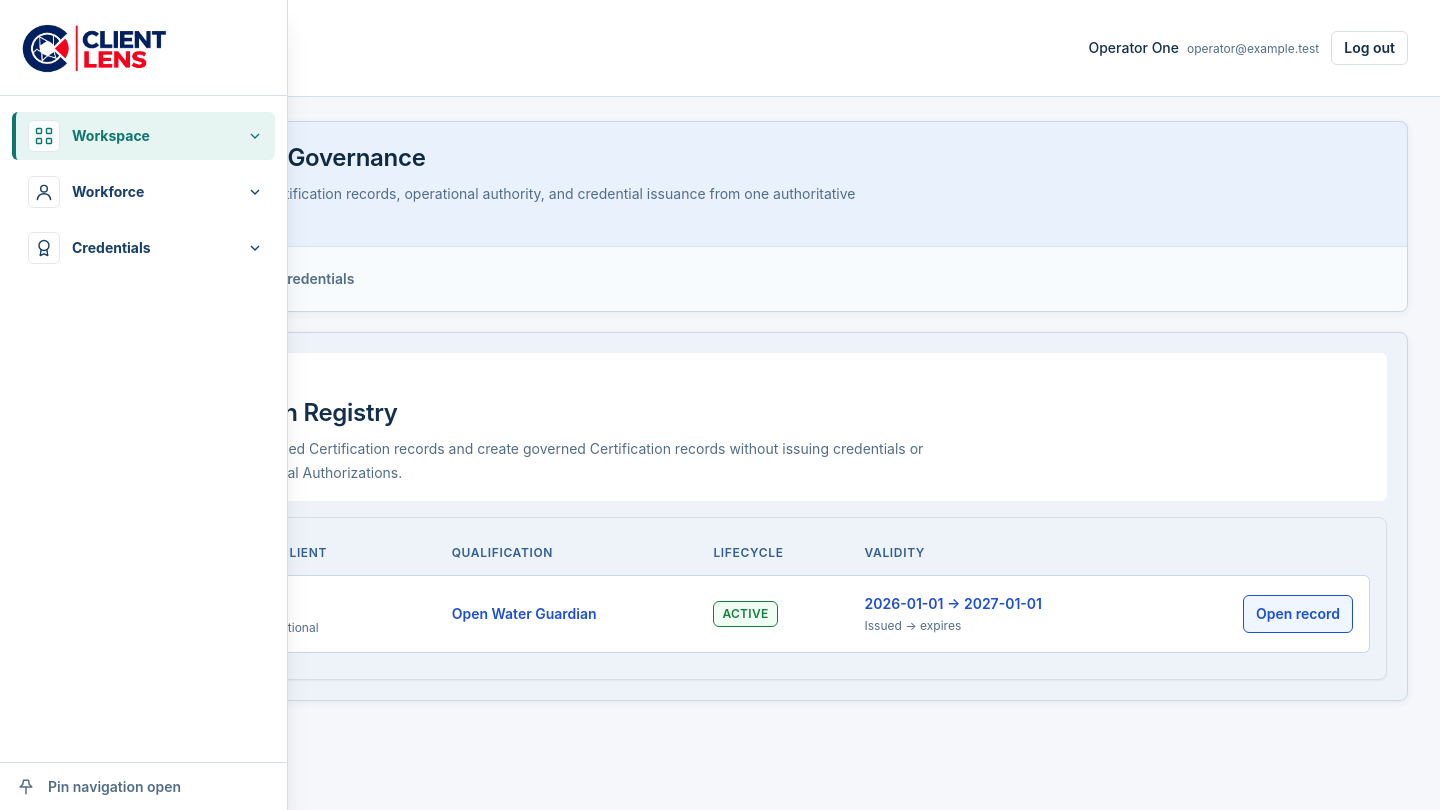
Certification workspace frontend › renders selected Certification detail and endorsement history without command controls for view-only actors
The image size is (1440, 810).
Click the button with aria-label "View Certificate Details": [1298, 614] box [1243,595,1353,633]
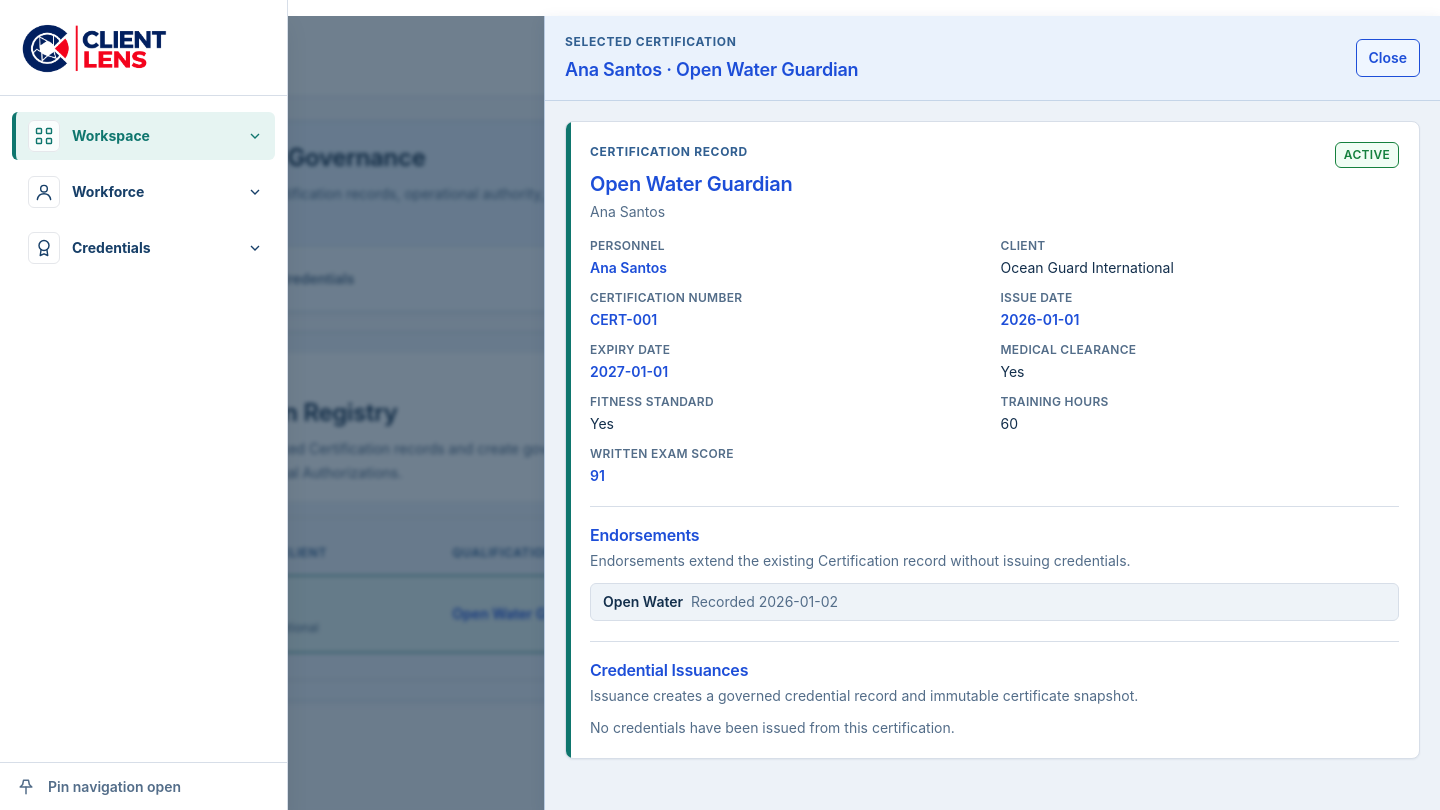
Result: the text "CERT-001" is shown at [590,311,657,328]
Result: the heading "Endorsements" is shown at [590,525,700,545]
Result: the text "Open Water" is shown at [603,593,683,610]
